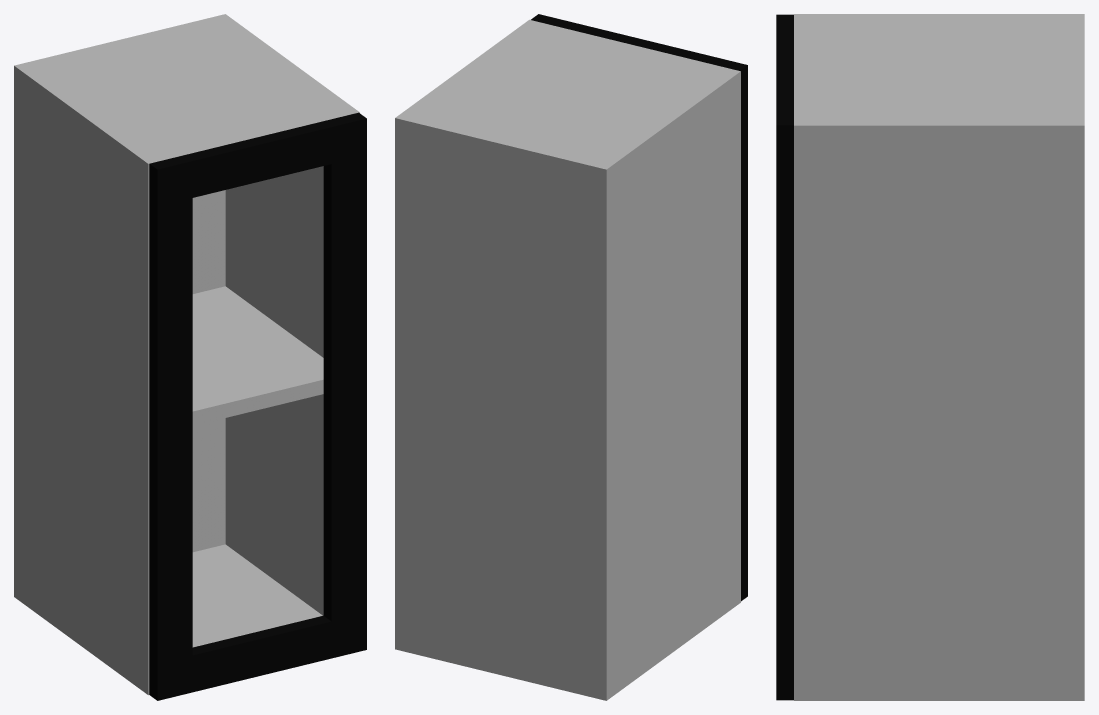
The model's file is mal30.glb.
3 renders of one model, left to right at view 1: azimuth 30°, elevation 25°; view 2: azimuth 150°, elevation 25°; view 3: azimuth 270°, elevation 25°, orthographic. The views are drawn at different scales.
Visible parts, largest first — view 1: Box001, Box002; view 2: Box001, Box002; view 3: Box001, Box002.
Boxes of the visible parts, left/top/right/bottom form: Box001: left=14, top=14, right=359, bottom=695; Box002: left=149, top=112, right=366, bottom=700; Box001: left=395, top=19, right=740, bottom=700; Box002: left=531, top=14, right=747, bottom=601; Box001: left=794, top=14, right=1084, bottom=700; Box002: left=776, top=14, right=793, bottom=700.
Size of the model in its own units: 0.3 by 0.72 by 0.35.
2 materials, 1 textured.
